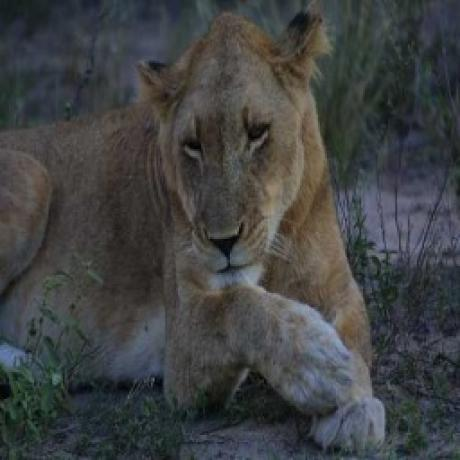Lion: (0, 2, 388, 460)
